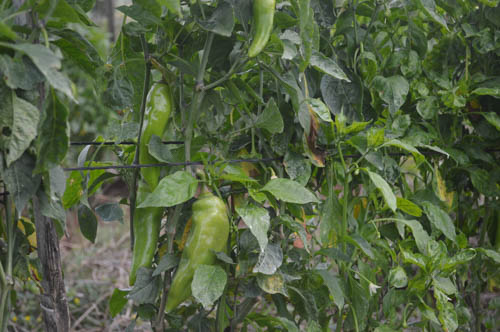ChiliPepper: (163, 195, 229, 316), (141, 83, 174, 188), (131, 196, 166, 286), (245, 4, 278, 60)
